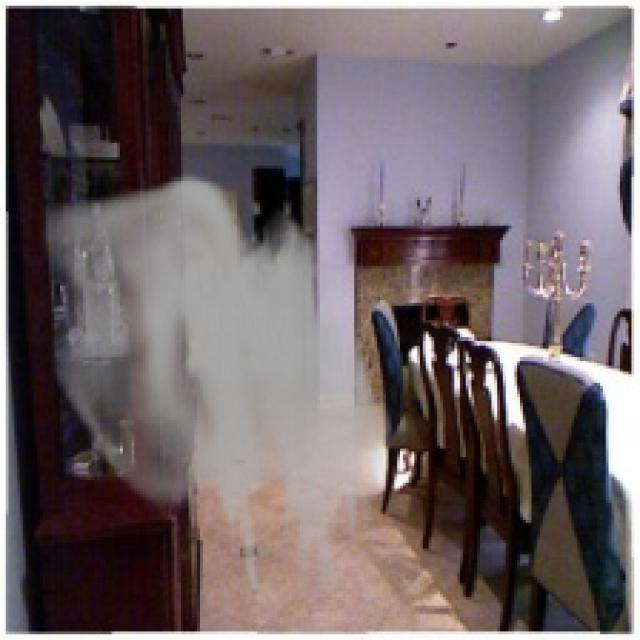smoke: (43, 175, 397, 594)
